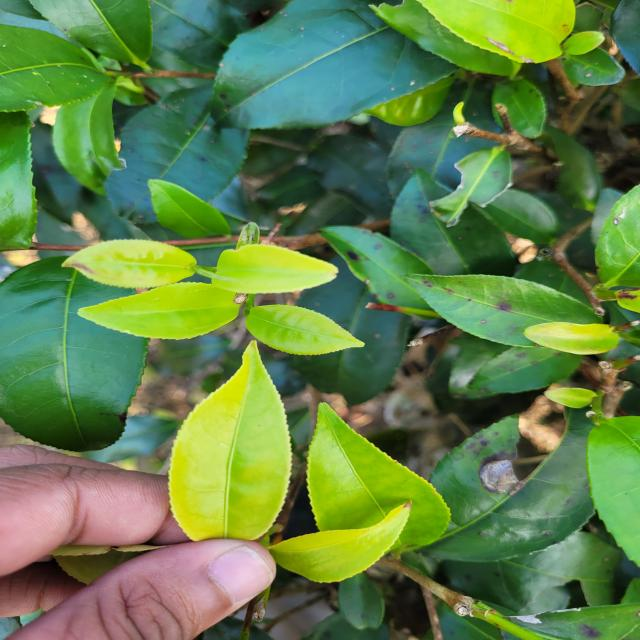Category B(2-4 days): (150, 321, 318, 554)
